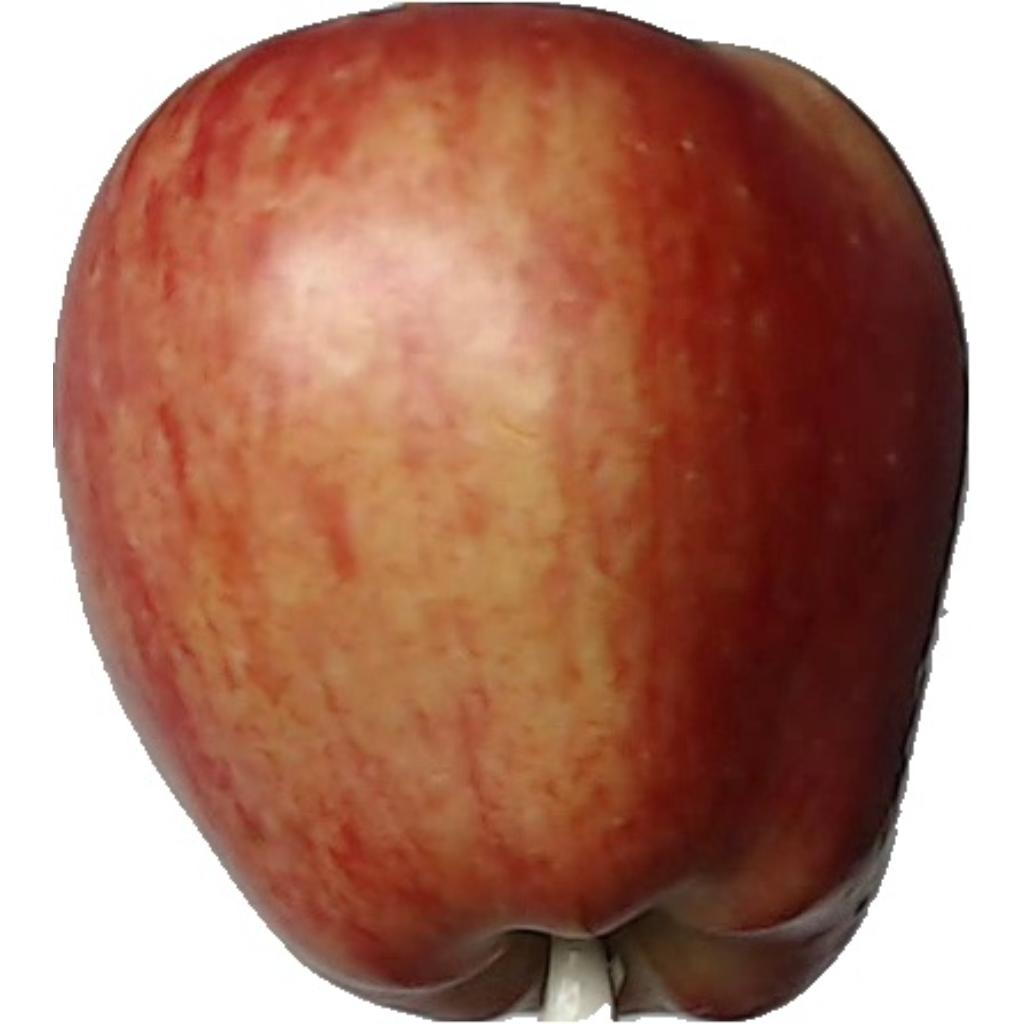apple: (59, 4, 965, 1019)
